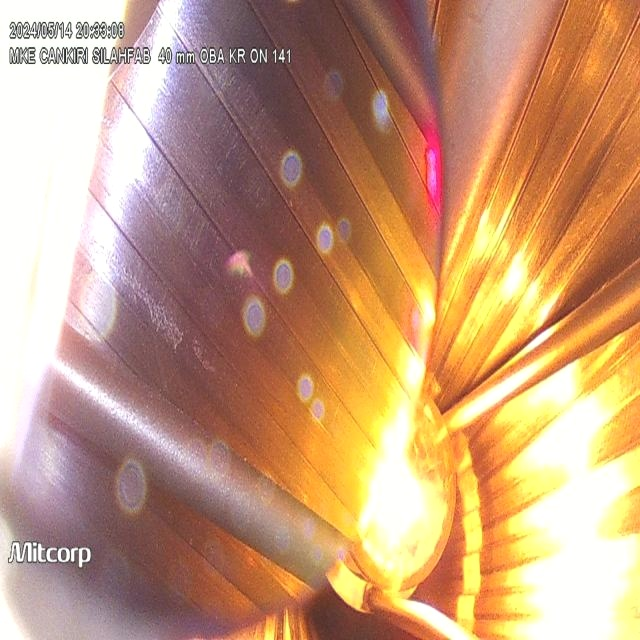hata_1.1: (125, 9, 311, 319)
hata_9.3: (102, 231, 220, 393)
